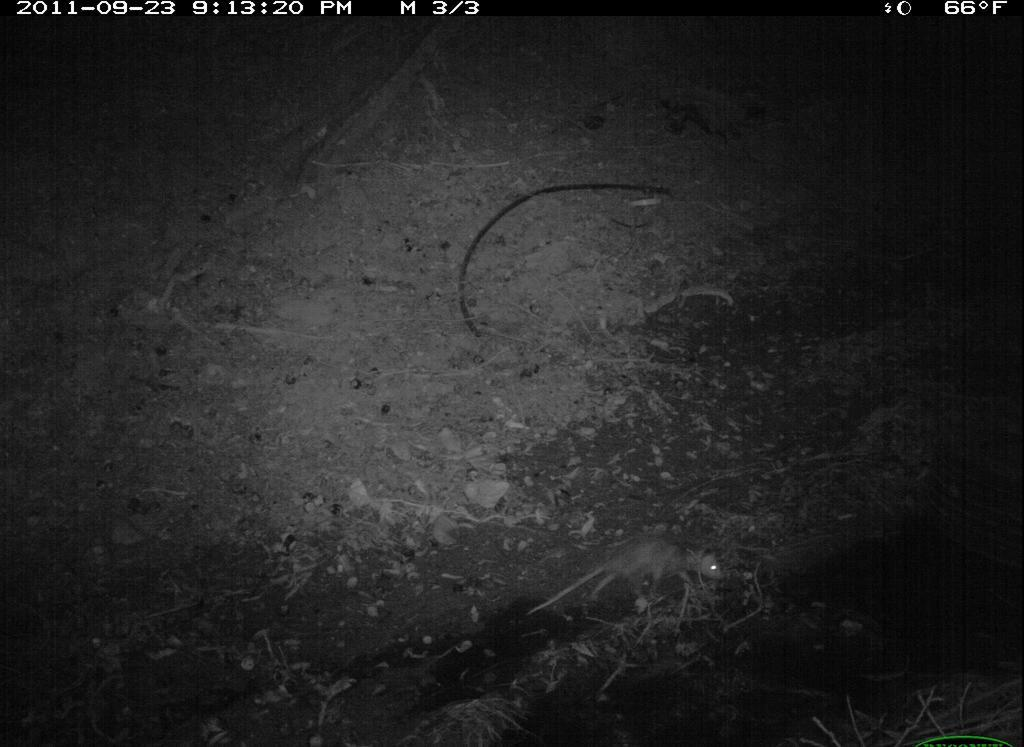opossum: (518, 530, 742, 632)
